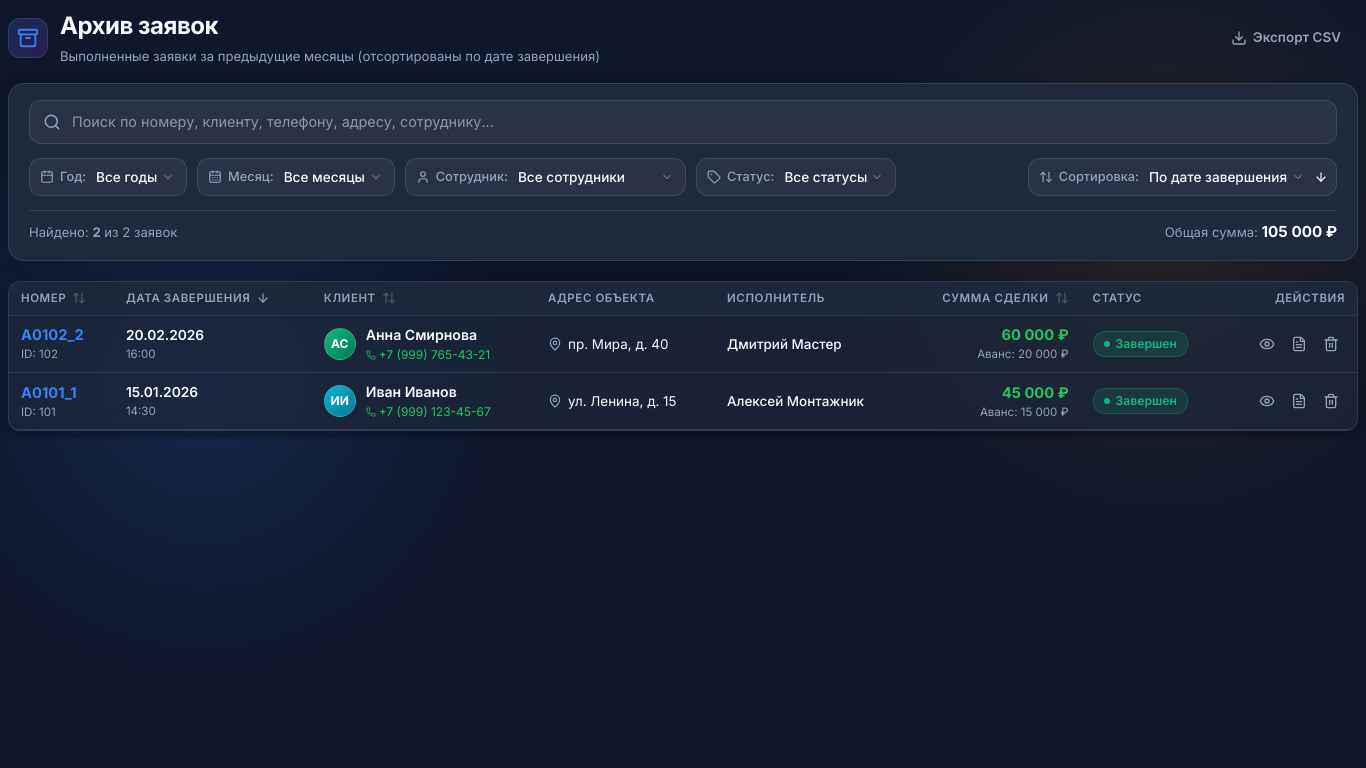
Test case: Archive Page Component › filters orders by search query
In the field with placeholder "Поиск по номеру, клиенту, телефону, адресу, сотруднику...": x=683, y=122 top-left (29, 100), bottom-right (1337, 144), type "Смирнова"
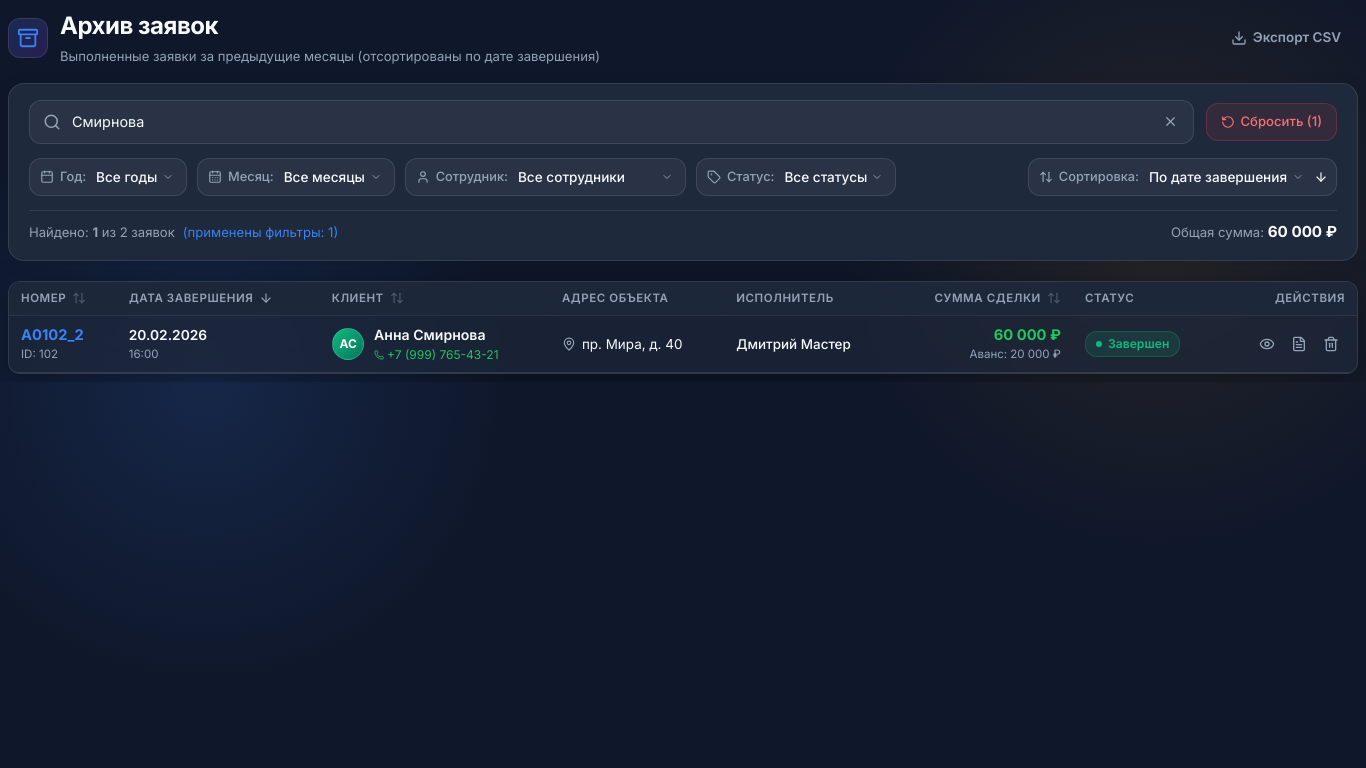
Result: the text "Иван Иванов" is gone
